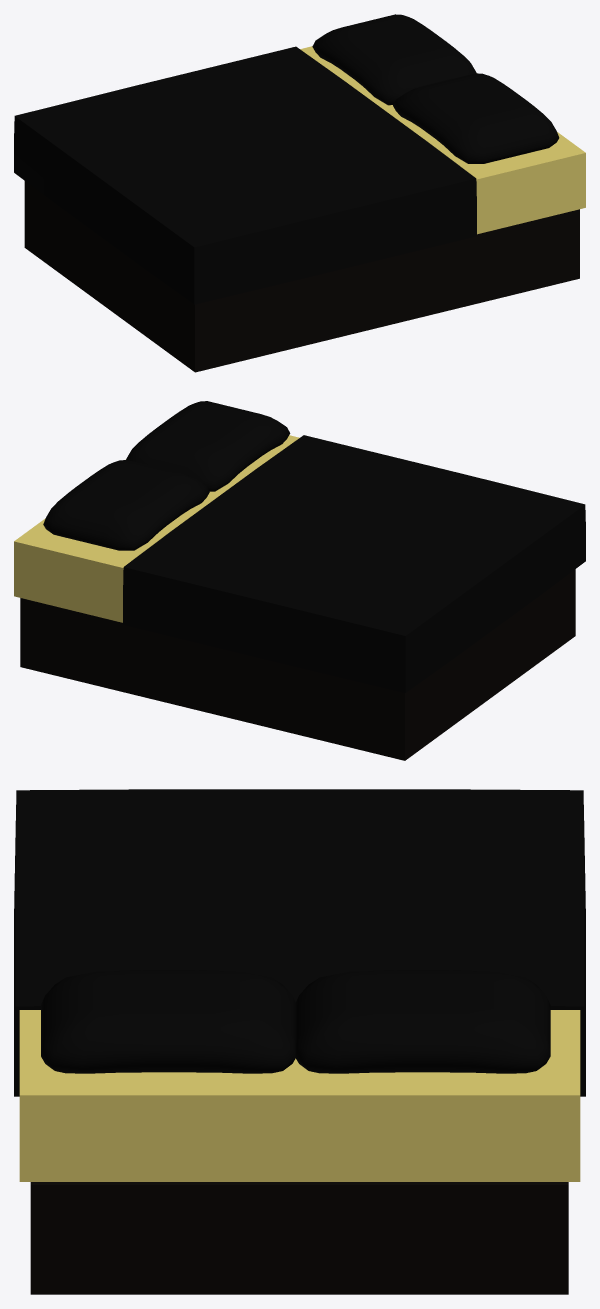
The model's file is CamaDoble.fbx.
3 views of the same model, one above another, from view 1: azimuth 30°, elevation 25°; view 2: azimuth 150°, elevation 25°; view 3: azimuth 270°, elevation 25° (orthographic). The views are drawn at different scales.
Parts seen in each view (by area): view 1: Manta, BaseCama, Almohada001, Cama, Almohada; view 2: Manta, BaseCama, Almohada, Cama, Almohada001; view 3: Manta, Cama, BaseCama, Almohada, Almohada001.
Part boxes in pixels (box(x1,y1,x2,y2)): Manta: box(14, 46, 476, 304); BaseCama: box(24, 181, 579, 372); Almohada001: box(393, 73, 559, 163); Cama: box(300, 46, 585, 234); Almohada: box(312, 14, 476, 105); Manta: box(123, 435, 585, 692); BaseCama: box(20, 569, 575, 760); Almohada: box(43, 460, 209, 550); Cama: box(14, 435, 299, 622); Almohada001: box(126, 401, 290, 491); Manta: box(14, 789, 585, 1096); Cama: box(19, 1010, 580, 1181); BaseCama: box(30, 1182, 568, 1294); Almohada: box(295, 970, 550, 1073); Almohada001: box(41, 970, 295, 1073).
Bounding box in the file's own units: 2.46 × 0.9648 × 1.96.
